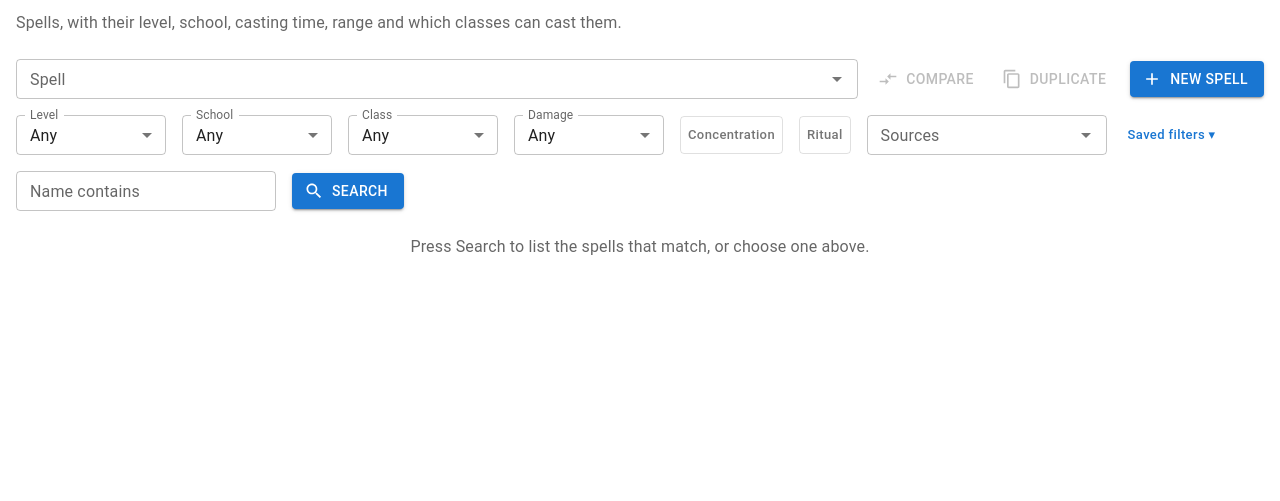
Test case: listing spells as a table › opens a spell from the table, and goes back to the same results
Select "Divination" in the dropdown labelled "School". click: {"x": 257, "y": 135}
box: [182,115,332,155]
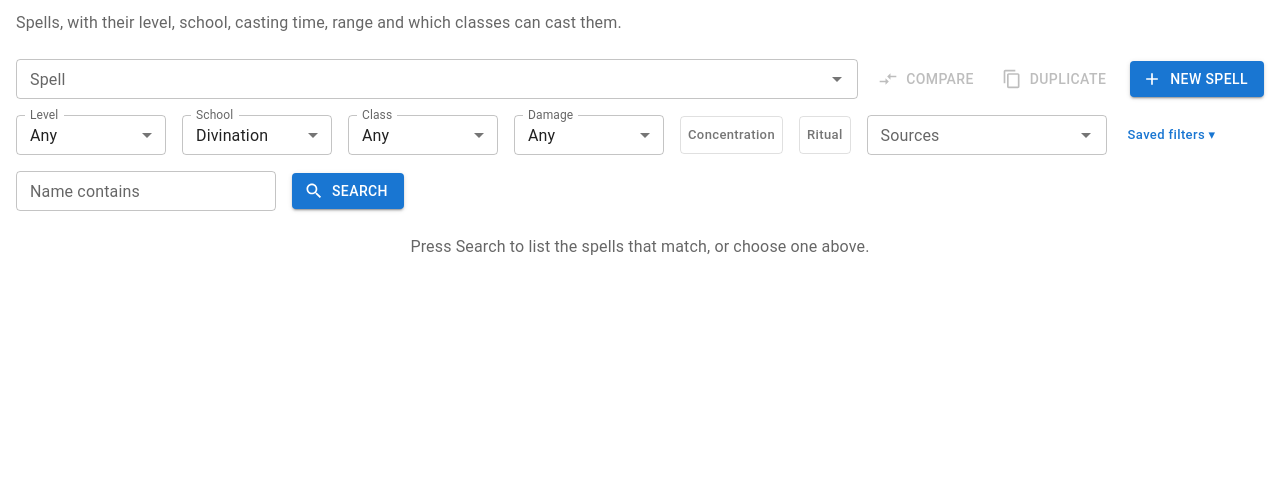
Click the button "Search". click: {"x": 348, "y": 191}
box: [292,173,404,209]
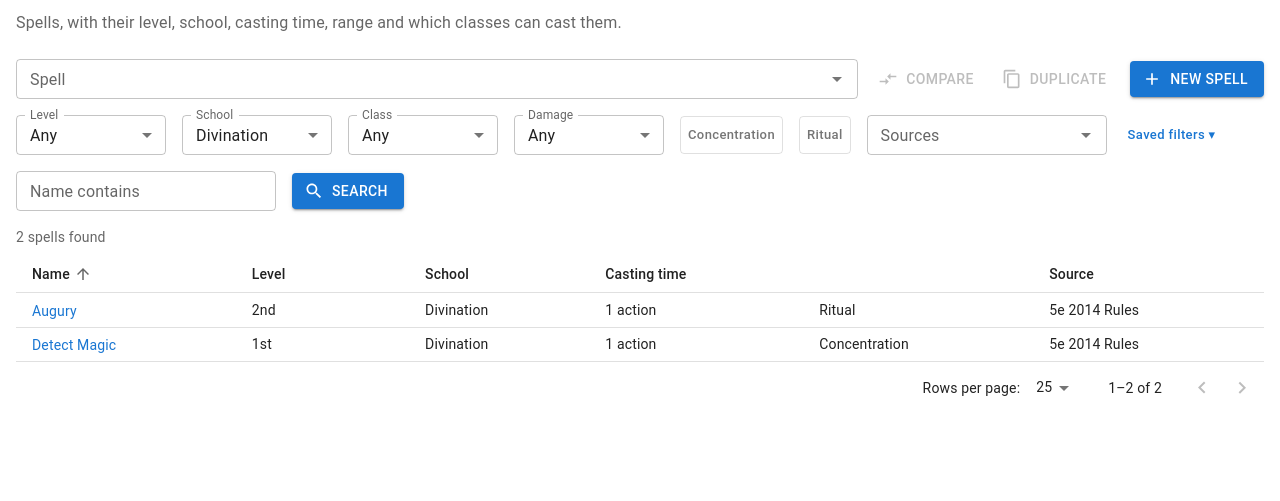
Check: the table named "Spell results" is shown, box [16,255,1264,362]
Click the button with aria-label "Open Detect Magic". click: {"x": 74, "y": 345}
box: [32,335,116,355]
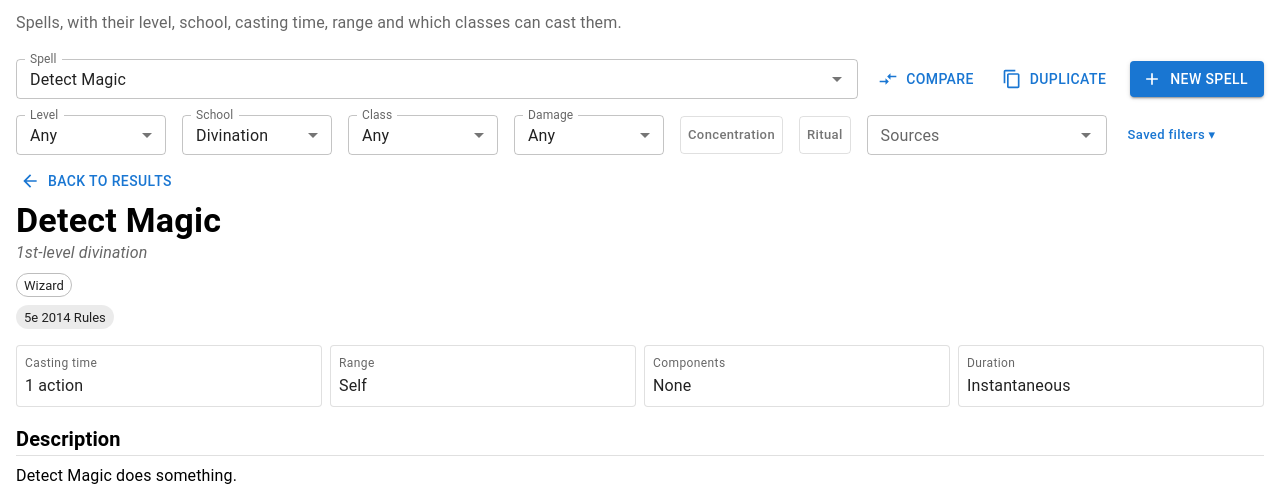
Check: the heading "Detect Magic" is shown, box [16,200,221,240]
Click the button "Back to results". click: {"x": 98, "y": 181}
box: [16,163,180,200]
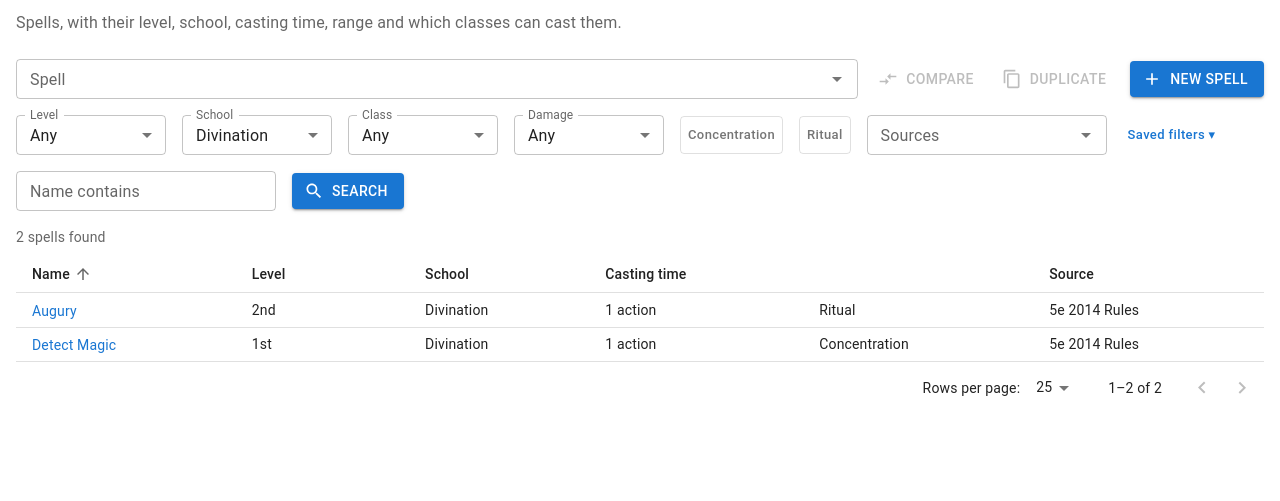
Check: the table named "Spell results" is shown, box [16,255,1264,362]
